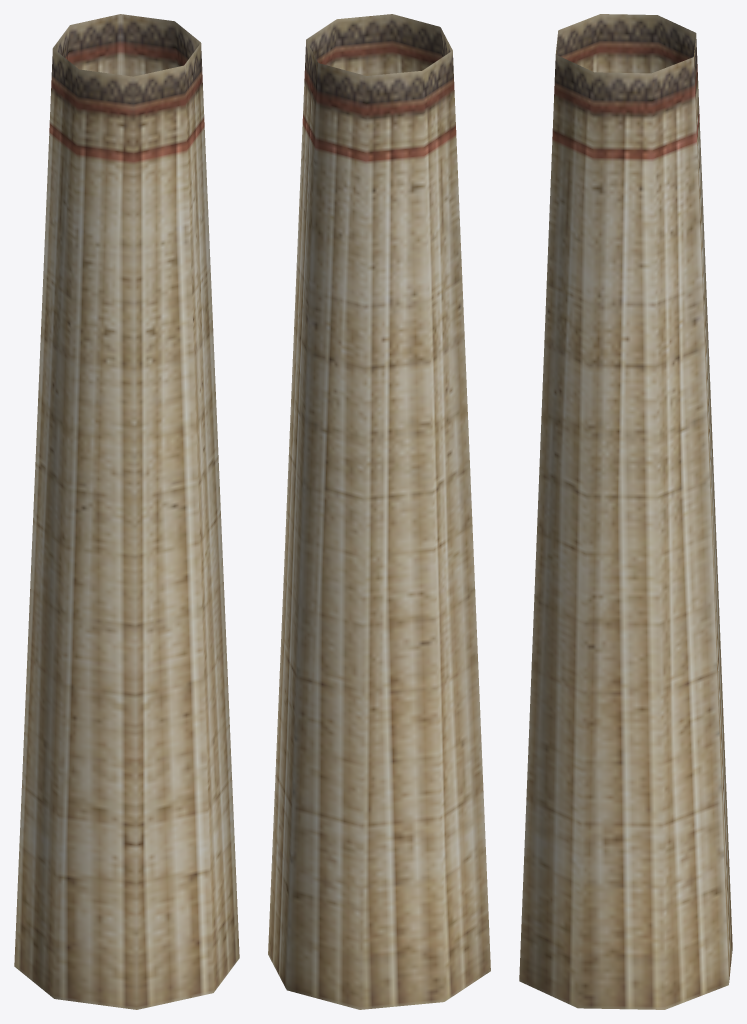
File: column_doric.dae
3 views of the same model, side by side, from view 1: azimuth 30°, elevation 25°; view 2: azimuth 150°, elevation 25°; view 3: azimuth 270°, elevation 25° (orthographic).
Parts seen in each view (by area): view 1: Doric_Column-Pivot; view 2: Doric_Column-Pivot; view 3: Doric_Column-Pivot.
Part boxes in pixels (x1,y1,x2,y2): Doric_Column-Pivot: (14,14,239,1009); Doric_Column-Pivot: (268,14,490,1009); Doric_Column-Pivot: (519,14,732,1009).
Size of the model in its own units: 1.9 by 1.9 by 9.07.
